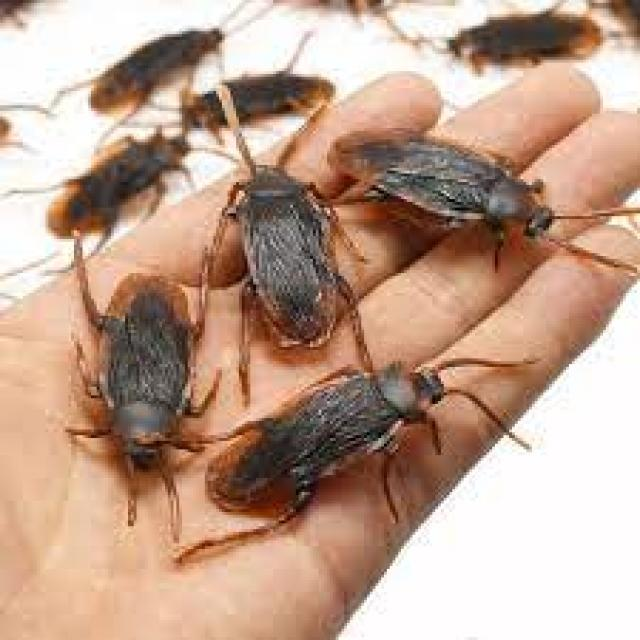Cockroach: (288, 80, 630, 296), (208, 322, 502, 552), (61, 213, 240, 544), (203, 83, 363, 399)
